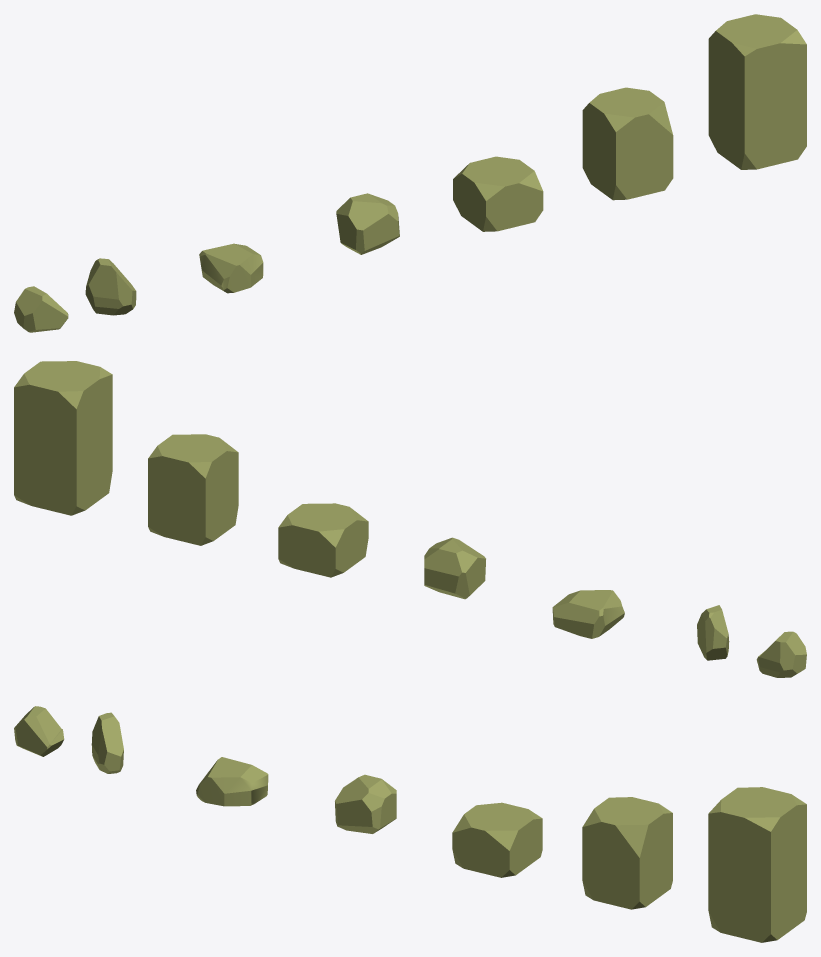
The model's file is Greek Stone Set 01.fbx.
The picture shows the model from 3 angles, top to bottom: view 1: azimuth 30°, elevation 25°; view 2: azimuth 150°, elevation 25°; view 3: azimuth 330°, elevation 25°; orthographic projection.
Parts seen in each view (by area): view 1: Greek Stone 07, Greek Stone 06, Greek Stone 05, Greek Stone 04, Greek Stone 03, Greek Stone 02, Greek Stone 01; view 2: Greek Stone 07, Greek Stone 06, Greek Stone 05, Greek Stone 04, Greek Stone 03, Greek Stone 01, Greek Stone 02; view 3: Greek Stone 07, Greek Stone 06, Greek Stone 05, Greek Stone 04, Greek Stone 03, Greek Stone 01, Greek Stone 02.
Part boxes in pixels (x1,y1,x2,y2): Greek Stone 07: (708,14,806,169); Greek Stone 06: (582,87,673,200); Greek Stone 05: (453,156,543,231); Greek Stone 04: (336,193,399,254); Greek Stone 03: (199,243,263,293); Greek Stone 02: (85,258,136,315); Greek Stone 01: (14,286,68,332); Greek Stone 07: (14,361,112,515); Greek Stone 06: (148,434,238,545); Greek Stone 05: (278,503,368,577); Greek Stone 04: (424,537,485,599); Greek Stone 03: (552,590,624,638); Greek Stone 01: (756,631,806,677); Greek Stone 02: (697,605,729,660); Greek Stone 07: (708,787,806,942); Greek Stone 06: (582,797,672,909); Greek Stone 05: (452,802,542,877); Greek Stone 04: (335,774,396,833); Greek Stone 03: (196,757,268,806); Greek Stone 01: (14,706,64,756); Greek Stone 02: (91,712,123,773).
Bounding box in the file's own units: 11.85 × 1.78 × 0.9609.
